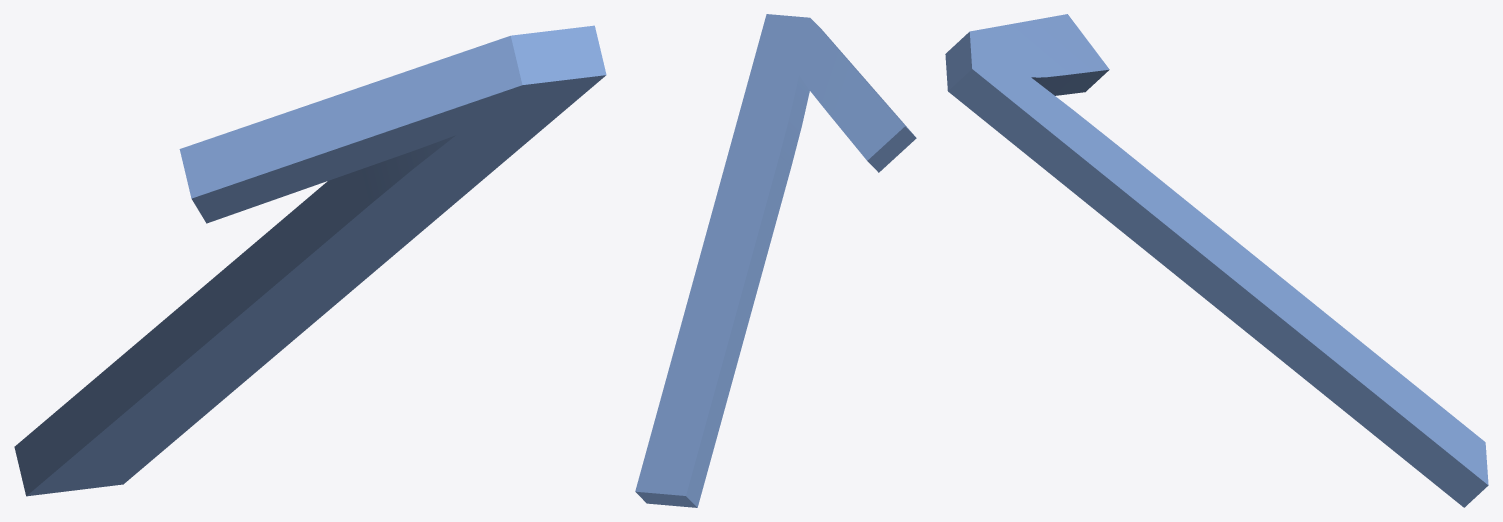
File: New_Number_1.gltf
3 views of the same model, side by side, from view 1: azimuth 30°, elevation 25°; view 2: azimuth 150°, elevation 25°; view 3: azimuth 270°, elevation 25° (orthographic). The views are drawn at different scales.
Parts seen in each view (by area): view 1: Part 244; view 2: Part 244; view 3: Part 244.
Part boxes in pixels (x1,y1,x2,y2): Part 244: (14, 25, 606, 496); Part 244: (635, 14, 916, 507); Part 244: (945, 14, 1488, 507).
Bounding box in the file's own units: 0.00196 × 0.00374 × 0.00378.
